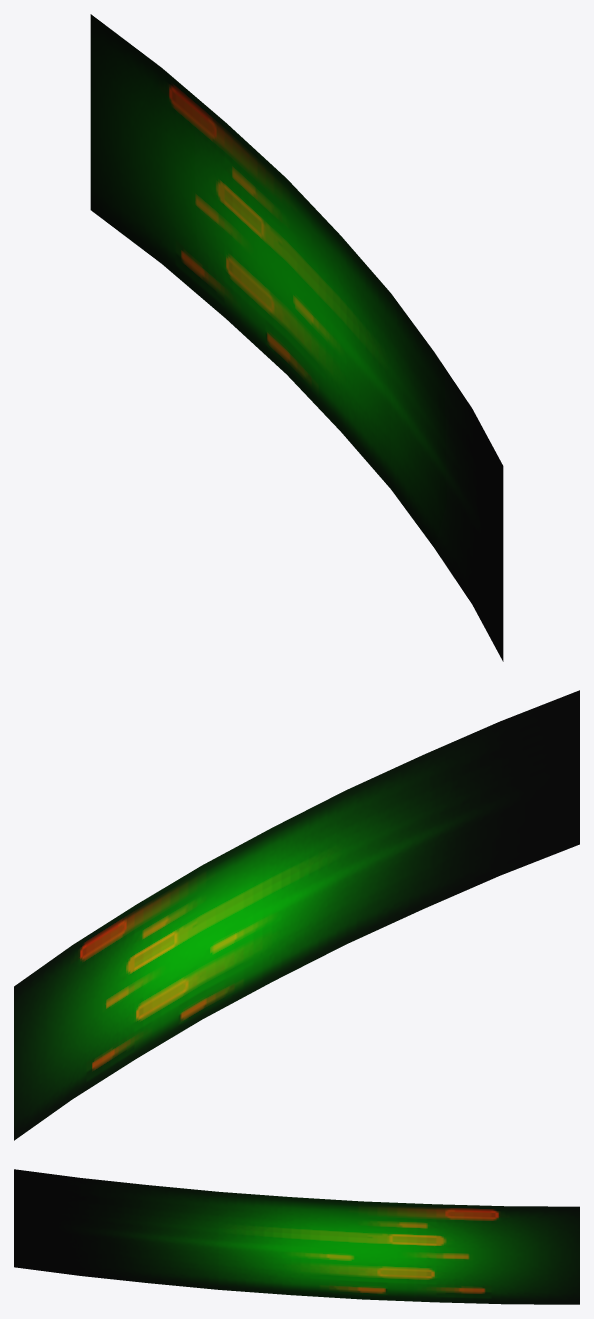
File: Club_MainSign_Emis.FBX
3 renders of one model, top to bottom at view 1: azimuth 30°, elevation 25°; view 2: azimuth 150°, elevation 25°; view 3: azimuth 270°, elevation 25°, orthographic. The views are drawn at different scales.
Parts seen in each view (by area): view 1: Club_MainSign_Emis; view 2: Club_MainSign_Emis; view 3: Club_MainSign_Emis.
Part boxes in pixels (x1,y1,x2,y2): Club_MainSign_Emis: [90, 14, 503, 661]; Club_MainSign_Emis: [14, 690, 579, 1140]; Club_MainSign_Emis: [14, 1169, 579, 1304].
Size of the model in its own units: 2.34 by 2.86 by 14.93.
